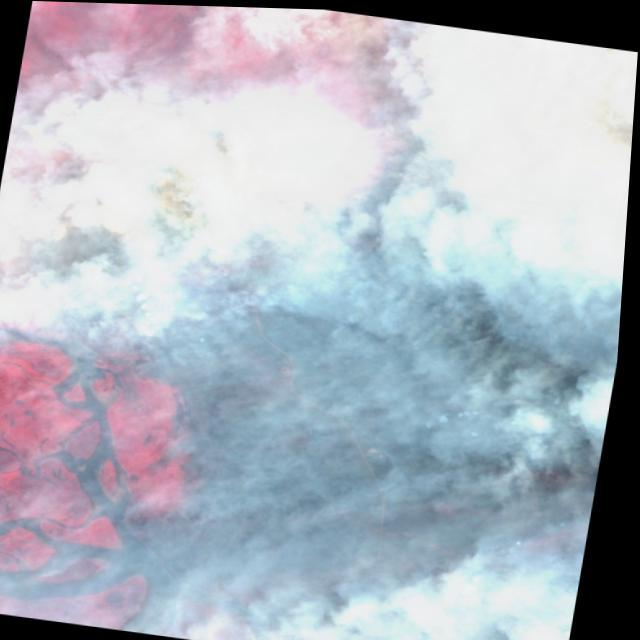fire: (0, 25, 639, 375)
